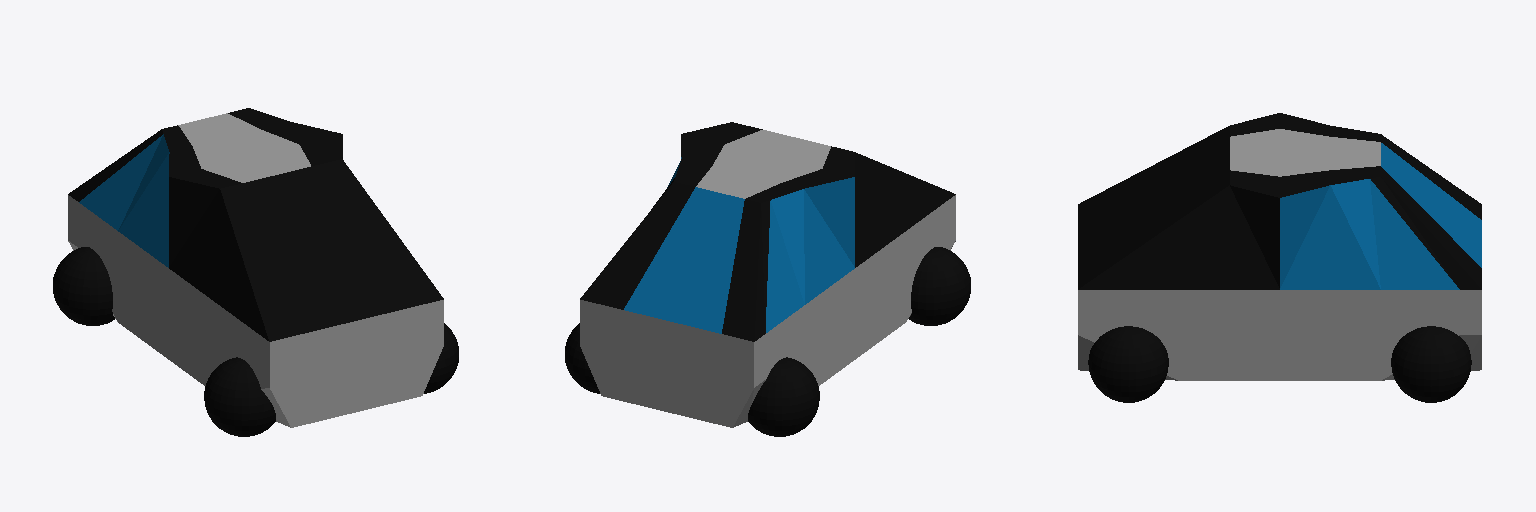
Rendered from Car.obj.
The picture shows the model from 3 angles: view 1: azimuth 30°, elevation 25°; view 2: azimuth 150°, elevation 25°; view 3: azimuth 270°, elevation 25°; orthographic projection.
Size of the model in its own units: 2.8 by 2.2 by 4.